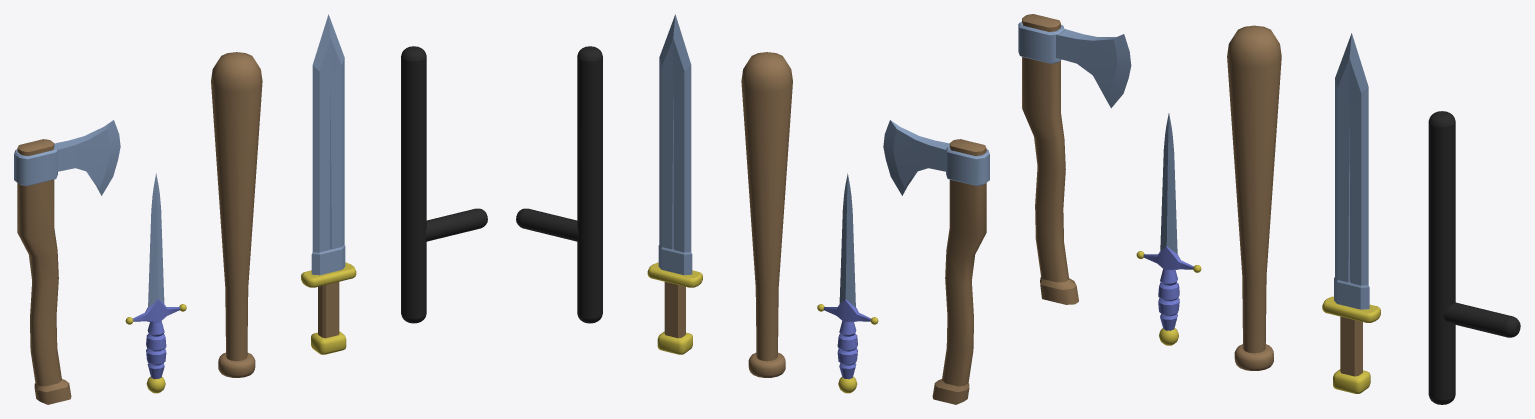
Rendered from weapons.fbx.
3 views of the same model, side by side, from view 1: azimuth 30°, elevation 25°; view 2: azimuth 150°, elevation 25°; view 3: azimuth 330°, elevation 25° (orthographic). The views are drawn at different scales.
Visible parts, largest first — view 1: bit, axe, sword_1, baton, dagger; view 2: bit, axe, sword_1, baton, dagger; view 3: axe, bit, sword_1, baton, dagger.
Boxes of the visible parts, x1,y1,x2,y2 form: bit: (211,52,262,377); axe: (14,120,120,404); sword_1: (301,14,356,354); baton: (401,46,487,323); dagger: (125,173,186,393); bit: (741,52,792,377); axe: (883,120,989,404); sword_1: (647,14,702,354); baton: (516,46,602,323); dagger: (817,173,878,393); axe: (1018,14,1131,304); bit: (1227,25,1281,370); sword_1: (1322,33,1380,393); baton: (1428,111,1520,404); dagger: (1136,113,1201,345).
Bounding box in the file's own units: 230 × 158 × 21.92.
